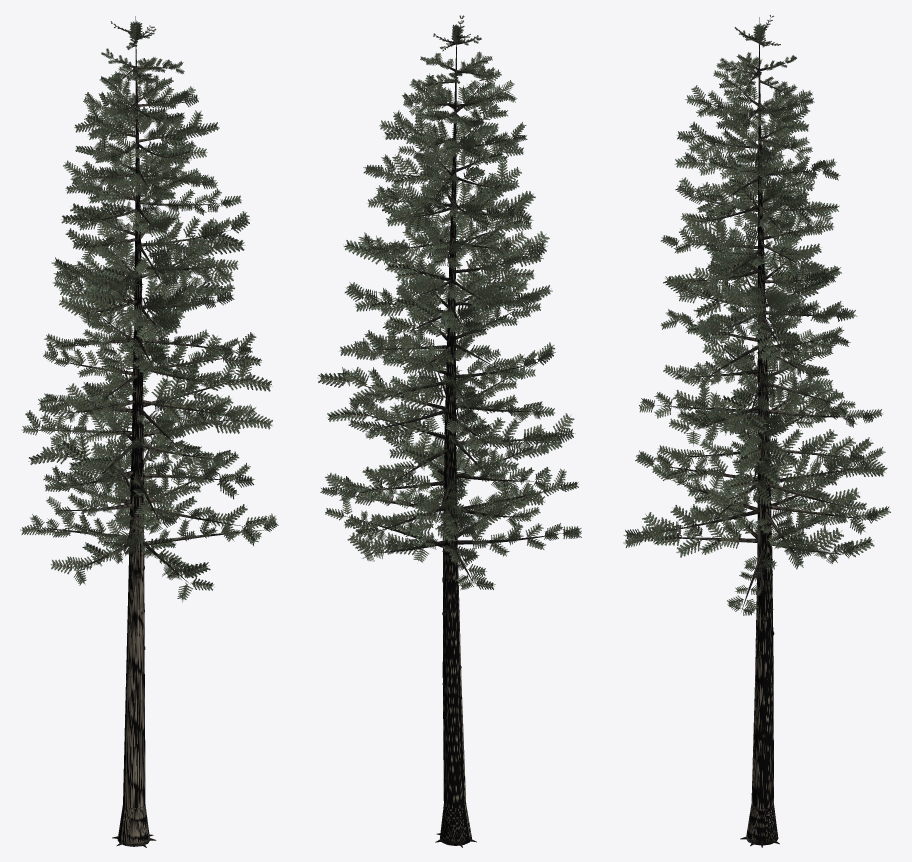
File: Sitka_OldLarge_02_MediumPruned_Healed_LOD0.fbx
The picture shows the model from 3 angles, left to right: view 1: azimuth 30°, elevation 25°; view 2: azimuth 150°, elevation 25°; view 3: azimuth 270°, elevation 25°; orthographic projection.
Visible parts, largest first — view 1: Sitka_OldLarge_02_MediumPruned_Healed_LOD0; view 2: Sitka_OldLarge_02_MediumPruned_Healed_LOD0; view 3: Sitka_OldLarge_02_MediumPruned_Healed_LOD0.
Boxes of the visible parts, box(x1,y1,x2,y2) form: Sitka_OldLarge_02_MediumPruned_Healed_LOD0: box(20, 16, 278, 847); Sitka_OldLarge_02_MediumPruned_Healed_LOD0: box(318, 15, 581, 847); Sitka_OldLarge_02_MediumPruned_Healed_LOD0: box(623, 15, 890, 847).
Size of the model in its own units: 956 by 3000 by 929.
Materials: 3 (3 with a texture image).
